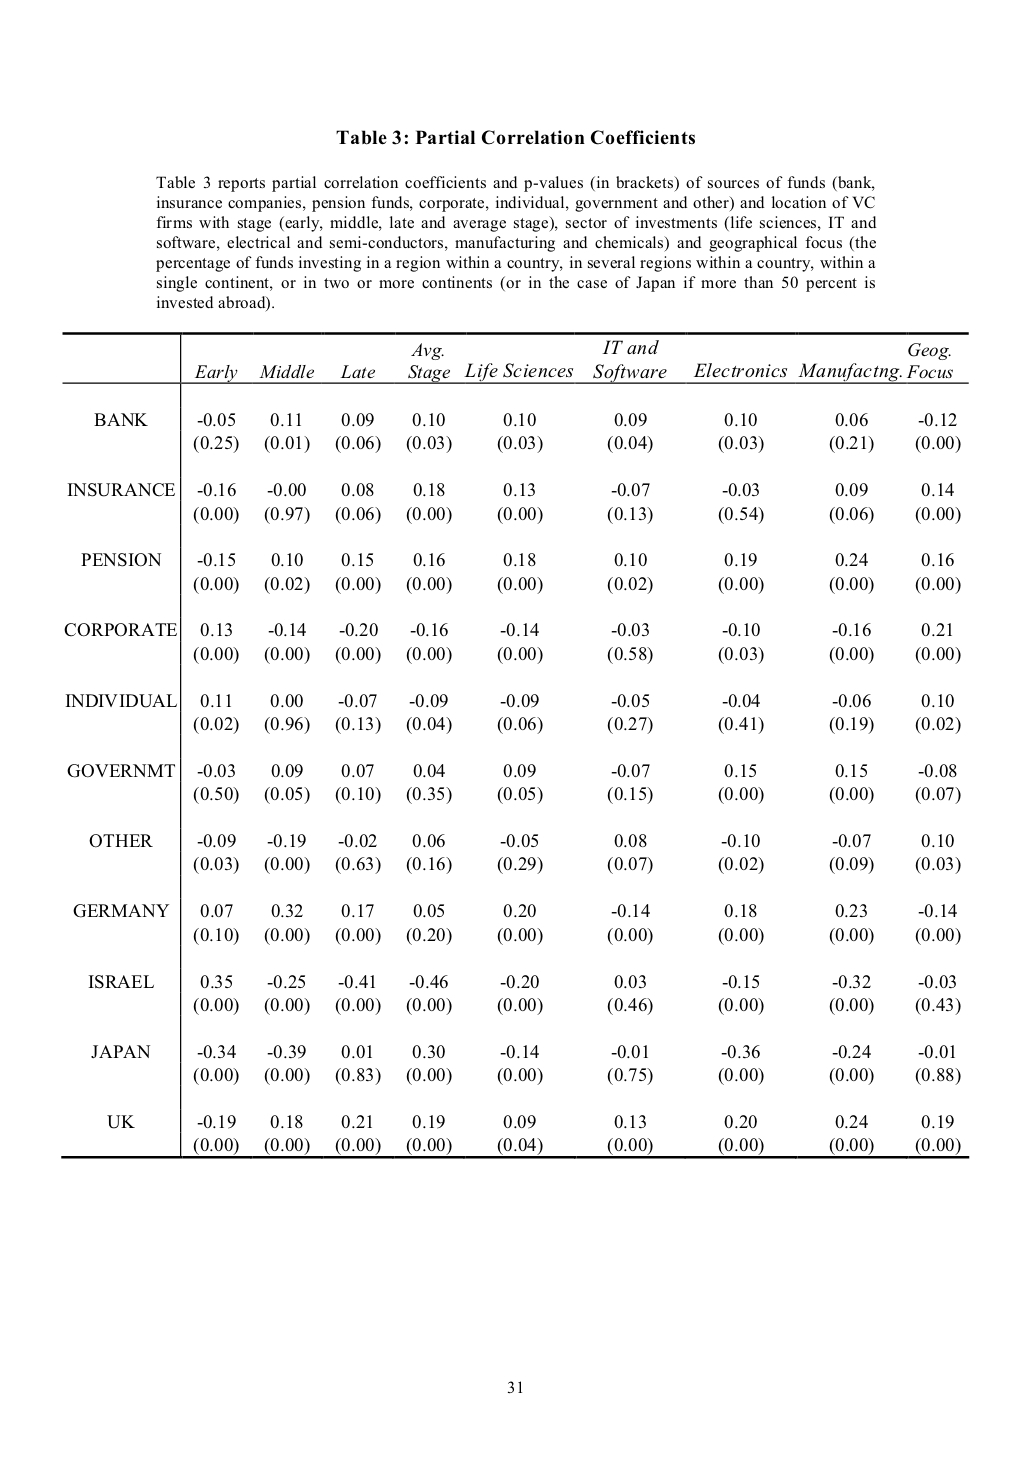Table: (61, 331, 969, 1159)
